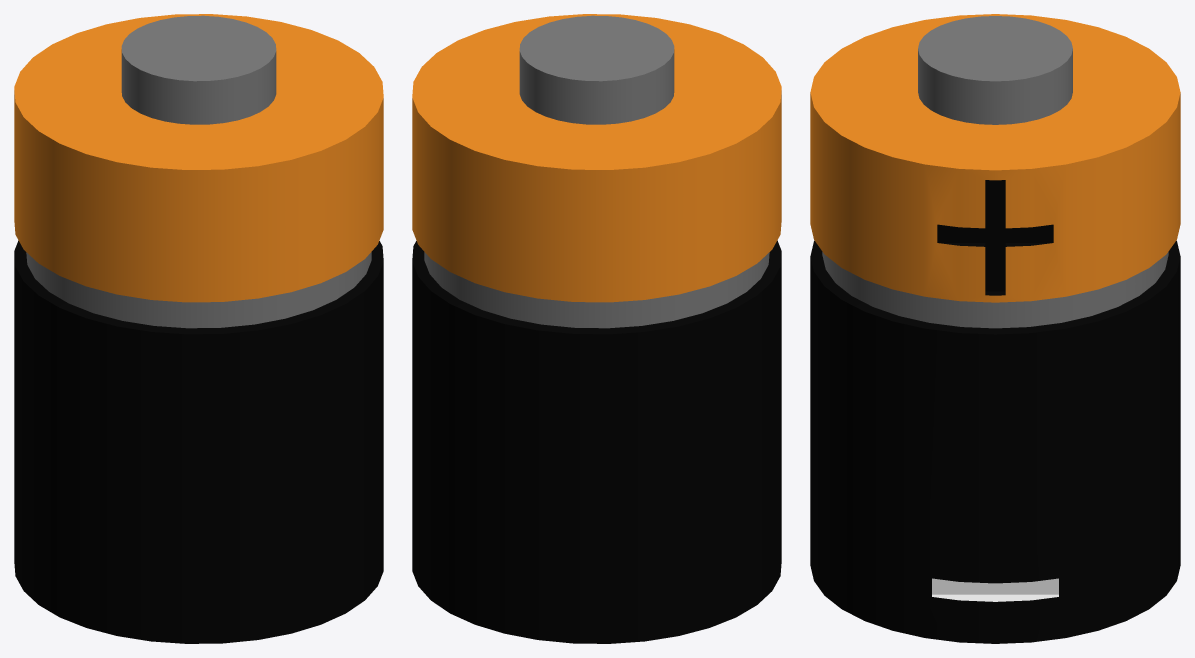
The model's file is battery.fbx.
The picture shows the model from 3 angles, left to right: view 1: azimuth 30°, elevation 25°; view 2: azimuth 150°, elevation 25°; view 3: azimuth 270°, elevation 25°; orthographic projection.
Parts seen in each view (by area): view 1: Cylinder; view 2: Cylinder; view 3: Cylinder.
Boxes of the visible parts, left/top/right/bottom form: Cylinder: left=14, top=14, right=383, bottom=643; Cylinder: left=412, top=14, right=781, bottom=643; Cylinder: left=810, top=14, right=1180, bottom=643.
Bounding box in the file's own units: 42 × 64.75 × 42.
1 material, 1 textured.
